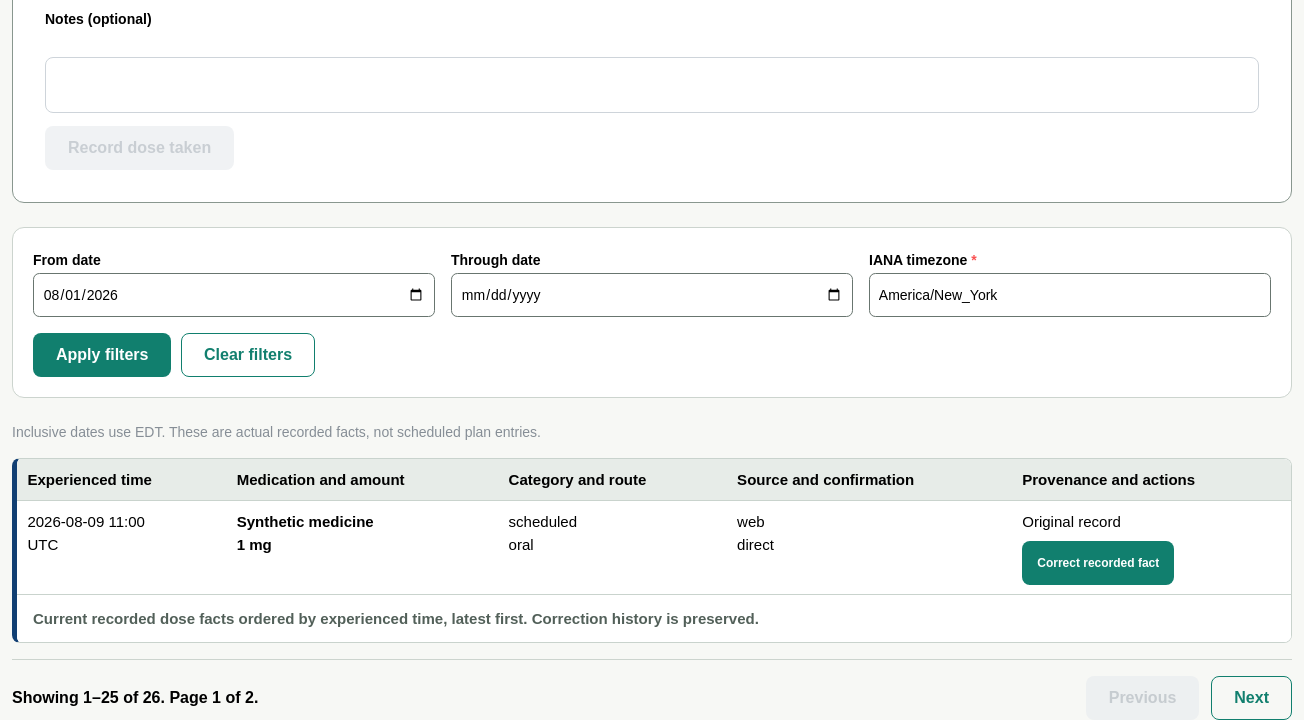
Doses page › requests the next bounded page through accessible controls
(page scrolled)
Expected: the text "Showing 1–25 of 26. Page 1 of 2." is shown, [12,686,258,710]
Click the button "Next". click: {"x": 1252, "y": 698}
box: [1211,676,1292,719]
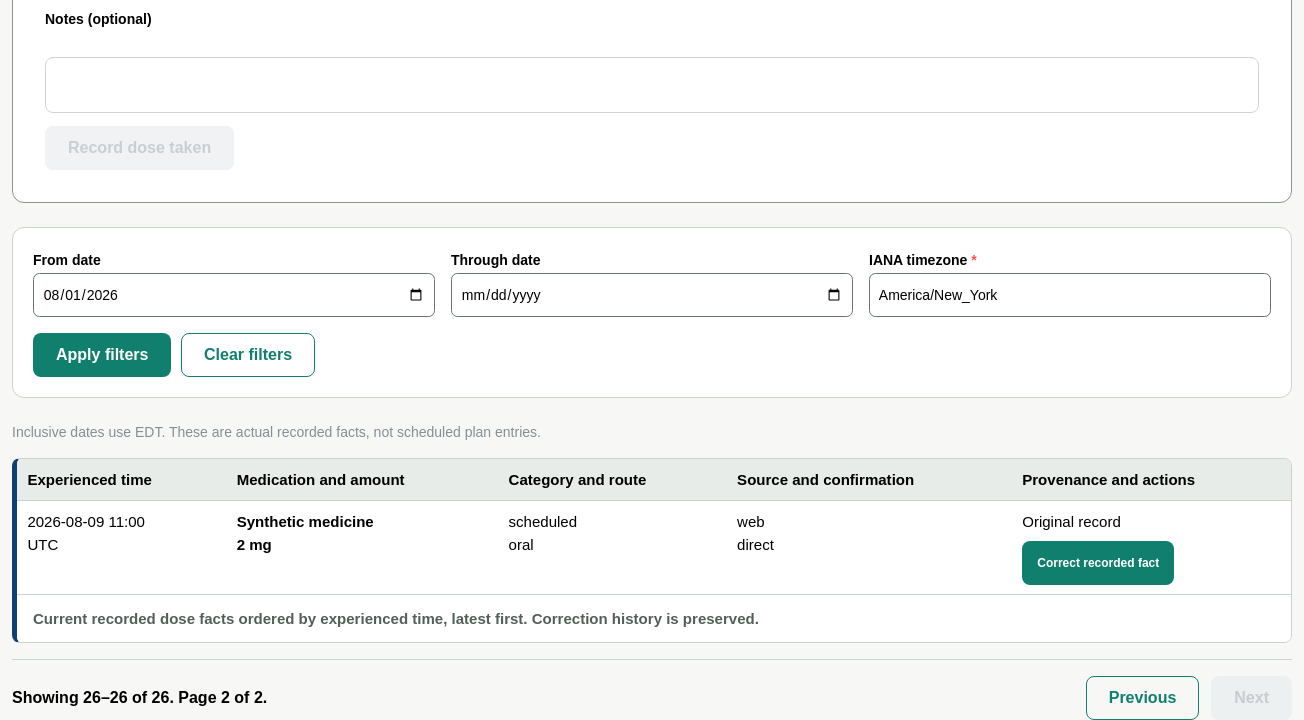
Now the text "Showing 26–26 of 26. Page 2 of 2." is shown, box [12,686,267,710]
Now the button "Previous" is enabled, box [1086,676,1199,719]
Now the button "Next" is disabled, box [1211,676,1292,719]
